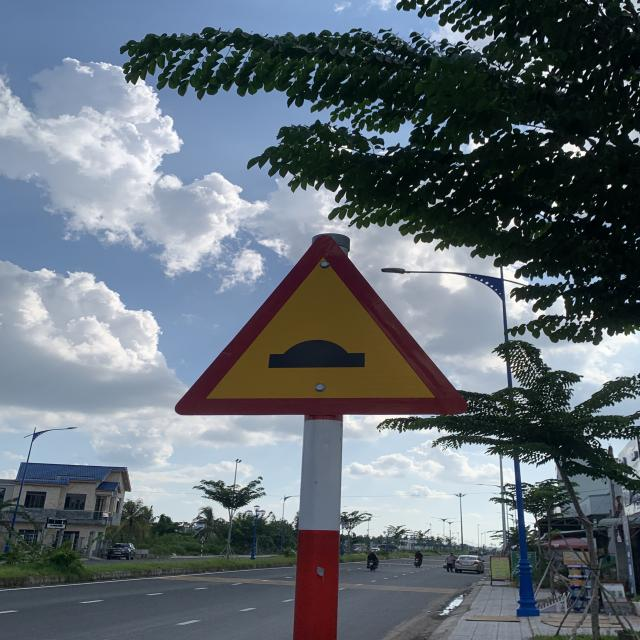Duong_Cong_Ben_Phai: (166, 234, 472, 416)
